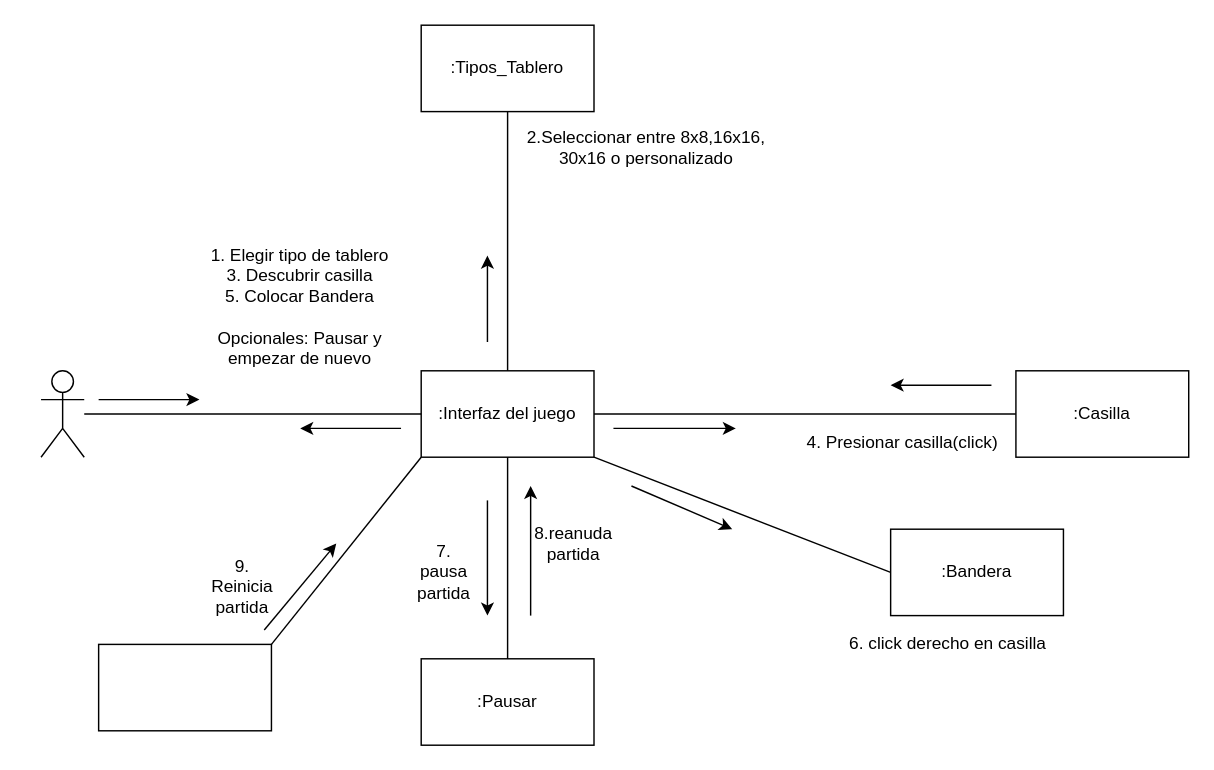
This 1214x770 diagram has some shape labels left out. Each missing label, with the box of its shape:
:Empezar de nuevo: (97, 643, 271, 731)
Jugador/a: (40, 369, 84, 457)
